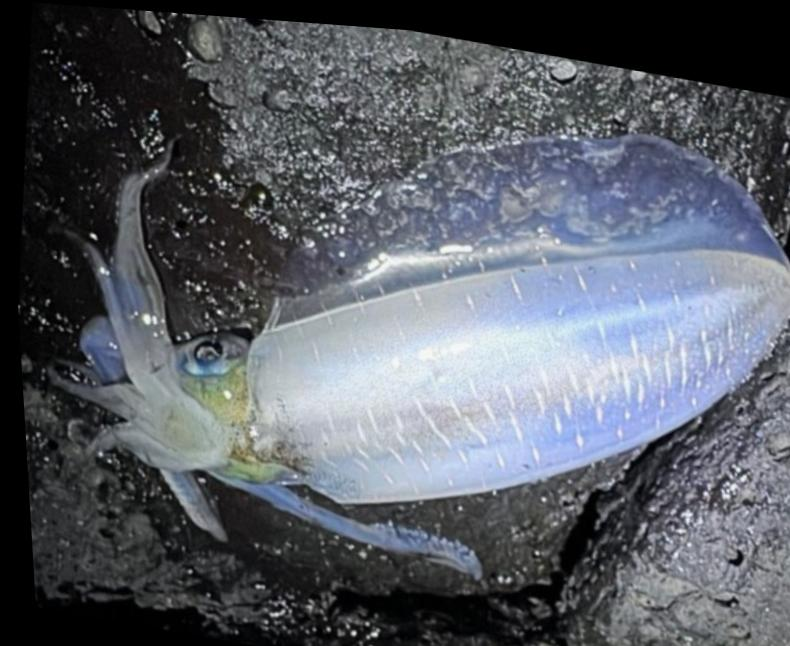Cephalopod: (44, 125, 790, 570)
